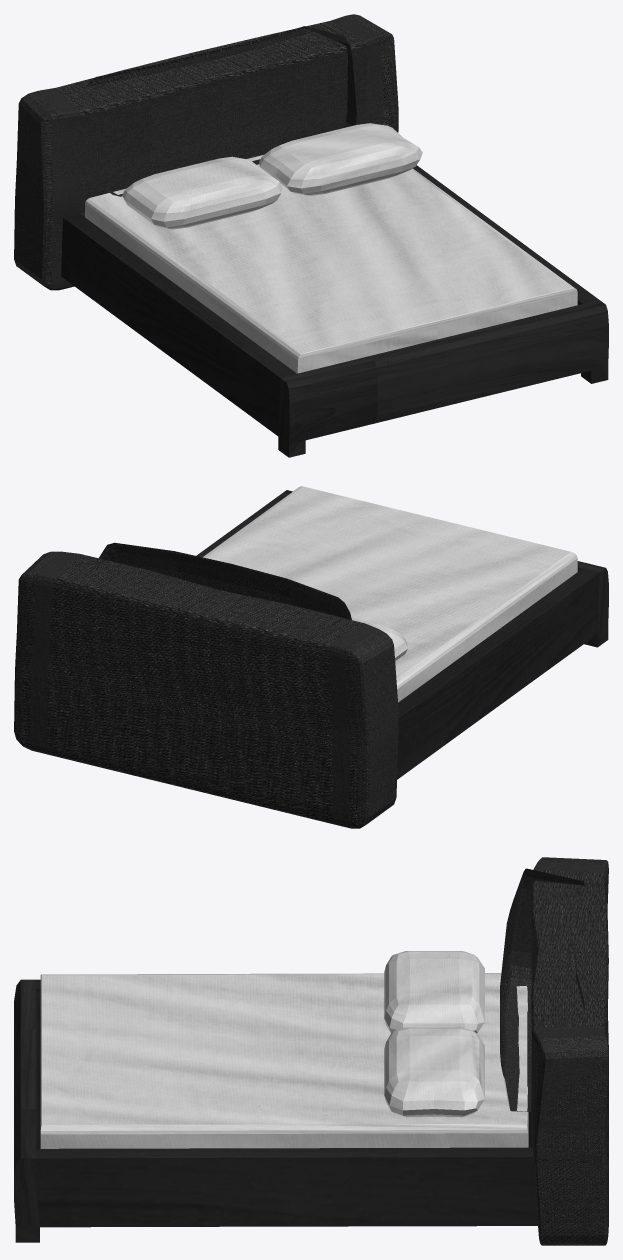
File: Cama.fbx
The picture shows the model from 3 angles, top to bottom: view 1: azimuth 30°, elevation 25°; view 2: azimuth 150°, elevation 25°; view 3: azimuth 270°, elevation 25°; orthographic projection. The views are drawn at different scales.
Visible parts, largest first — view 1: Cama, almohada.001, almohada; view 2: Cama, almohada; view 3: Cama, almohada.001, almohada.
Part boxes in pixels (x1=…): Cama: x1=14, y1=14, x2=608, y2=457; almohada.001: x1=259, y1=123, x2=422, y2=195; almohada: x1=122, y1=156, x2=282, y2=229; Cama: x1=14, y1=486, x2=608, y2=828; almohada: x1=351, y1=617, x2=407, y2=660; Cama: x1=14, y1=857, x2=608, y2=1245; almohada.001: x1=384, y1=1027, x2=484, y2=1117; almohada: x1=384, y1=951, x2=484, y2=1033.
Size of the model in its own units: 200 by 106 by 254.
3 materials, 3 textured.
